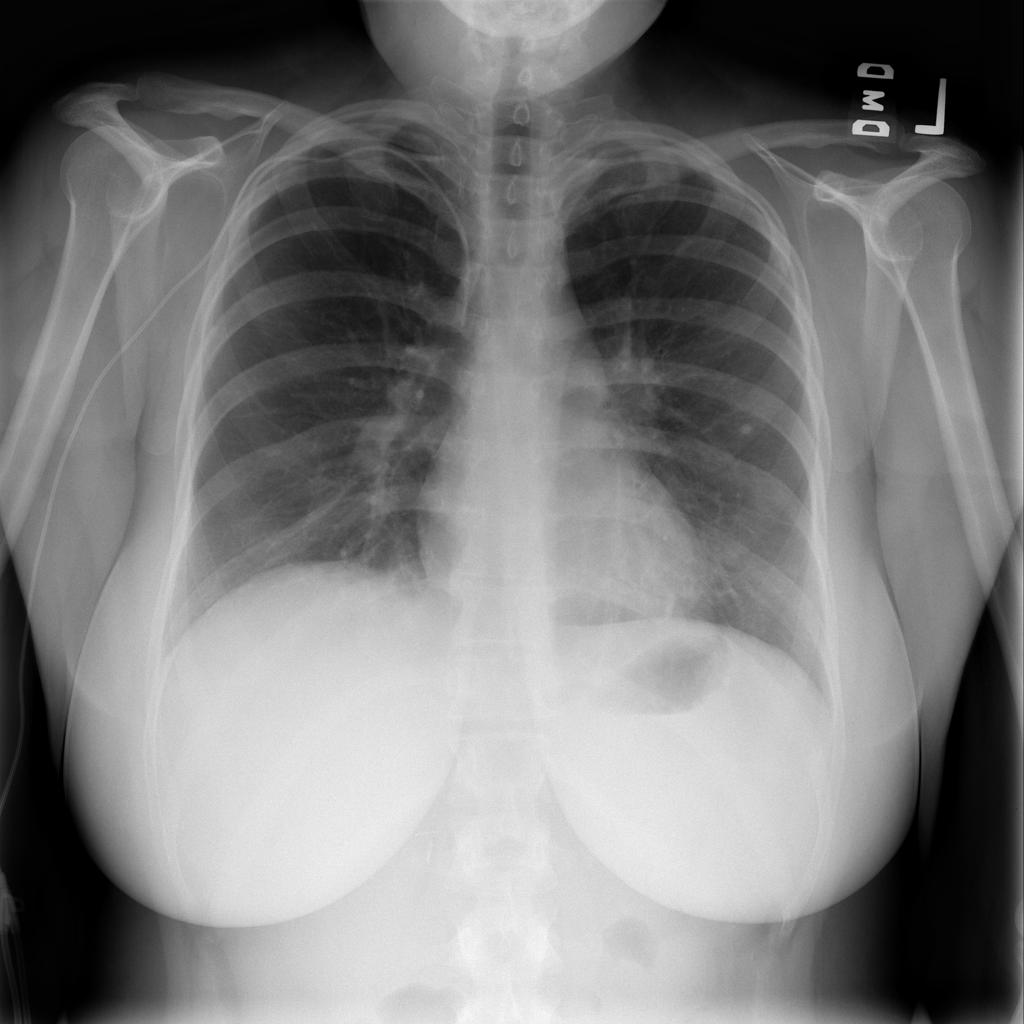nodule: (726, 403, 776, 452)
